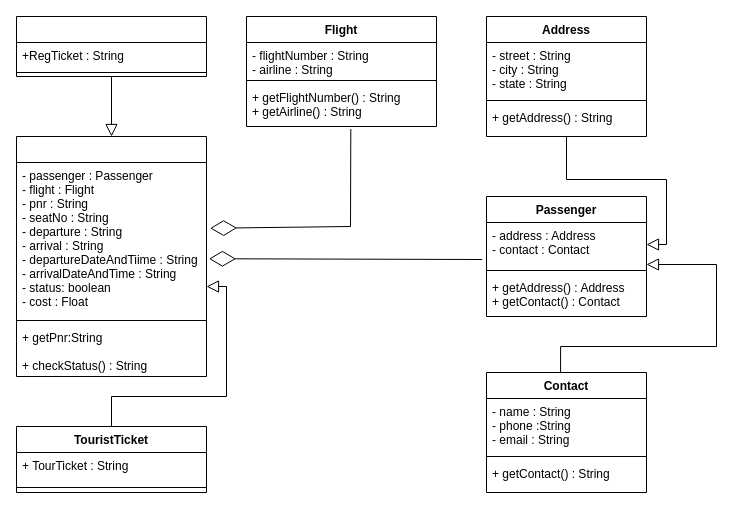
The diagram is 733 pixels wide and 509 high, and some of its shapes have lost their labels. Here are the shapes that lost their labels. From the top down, the box of each, then its label:
(16, 16, 206, 76): RegularTicket
(16, 136, 206, 376): Ticket
